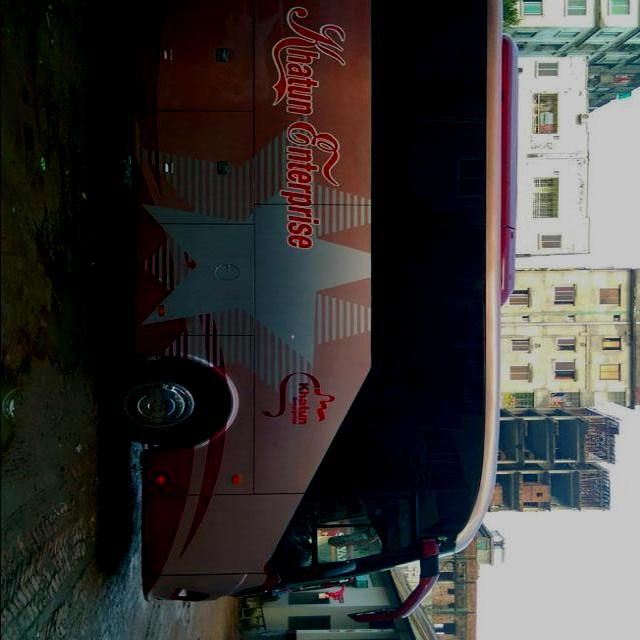bus: (97, 1, 522, 626)
